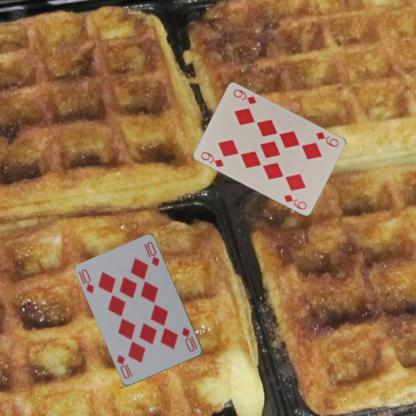10d: (179, 324, 199, 354), (76, 266, 96, 295)
9d: (198, 148, 226, 168), (313, 129, 340, 148)
